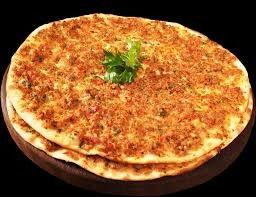lahmacun: (7, 14, 252, 179)
